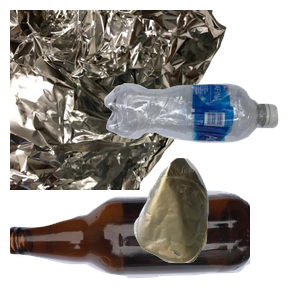glass: (10, 188, 250, 300)
metal: (10, 10, 229, 190)
plastic: (102, 81, 300, 216)
trash: (131, 155, 300, 300)
